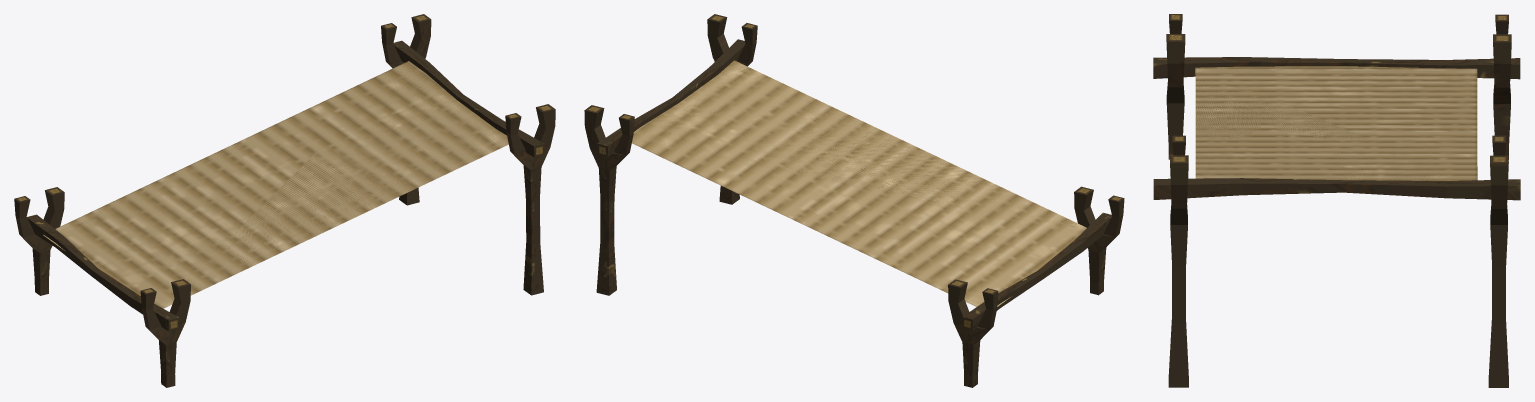
The model's file is leanto.obj.
3 views of the same model, side by side, from view 1: azimuth 30°, elevation 25°; view 2: azimuth 150°, elevation 25°; view 3: azimuth 270°, elevation 25° (orthographic). The views are drawn at different scales.
Parts seen in each view (by area): view 1: Mesh05_Mesh05.001, Component__Component_.001, Mesh01_Mesh01.001, Componen01_Componen01.001, Mesh04_Mesh04.001, Componen02_Componen02.001, Mesh02_Mesh02.001, Mesh03_Mesh03.001; view 2: Mesh05_Mesh05.001, Component__Component_.001, Mesh03_Mesh03.001, Componen02_Componen02.001, Mesh04_Mesh04.001, Componen01_Componen01.001, Mesh02_Mesh02.001, Mesh01_Mesh01.001; view 3: Mesh05_Mesh05.001, Mesh02_Mesh02.001, Component__Component_.001, Mesh01_Mesh01.001, Mesh03_Mesh03.001, Mesh04_Mesh04.001, Componen01_Componen01.001, Componen02_Componen02.001.
Part boxes in pixels (box(x1,y1,x2,y2)): Mesh05_Mesh05.001: box(43, 61, 508, 308); Component__Component_.001: box(188, 61, 507, 279); Mesh01_Mesh01.001: box(505, 104, 555, 295); Componen01_Componen01.001: box(140, 279, 190, 387); Mesh04_Mesh04.001: box(27, 214, 179, 331); Componen02_Componen02.001: box(14, 187, 64, 295); Mesh02_Mesh02.001: box(393, 40, 544, 157); Mesh03_Mesh03.001: box(381, 14, 431, 205); Mesh05_Mesh05.001: box(632, 60, 1086, 306); Component__Component_.001: box(633, 61, 1085, 229); Mesh03_Mesh03.001: box(584, 105, 634, 295); Componen02_Componen02.001: box(948, 279, 998, 387); Mesh04_Mesh04.001: box(962, 212, 1111, 330); Componen01_Componen01.001: box(1074, 186, 1124, 295); Mesh02_Mesh02.001: box(597, 39, 745, 157); Mesh01_Mesh01.001: box(707, 14, 757, 204); Mesh05_Mesh05.001: box(1195, 66, 1477, 180); Mesh02_Mesh02.001: box(1153, 178, 1520, 200); Component__Component_.001: box(1195, 68, 1462, 180); Mesh01_Mesh01.001: box(1168, 135, 1188, 387); Mesh03_Mesh03.001: box(1488, 135, 1508, 387); Mesh04_Mesh04.001: box(1153, 57, 1520, 79); Componen01_Componen01.001: box(1166, 14, 1185, 159); Componen02_Componen02.001: box(1493, 14, 1511, 159).
Size of the model in its own units: 2.31 by 0.9887 by 1.39.
